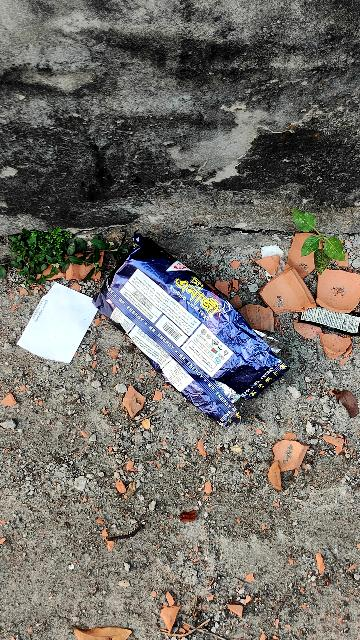packet: (96, 251, 294, 417)
